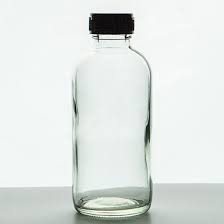glass_bottle: (64, 8, 159, 221)
